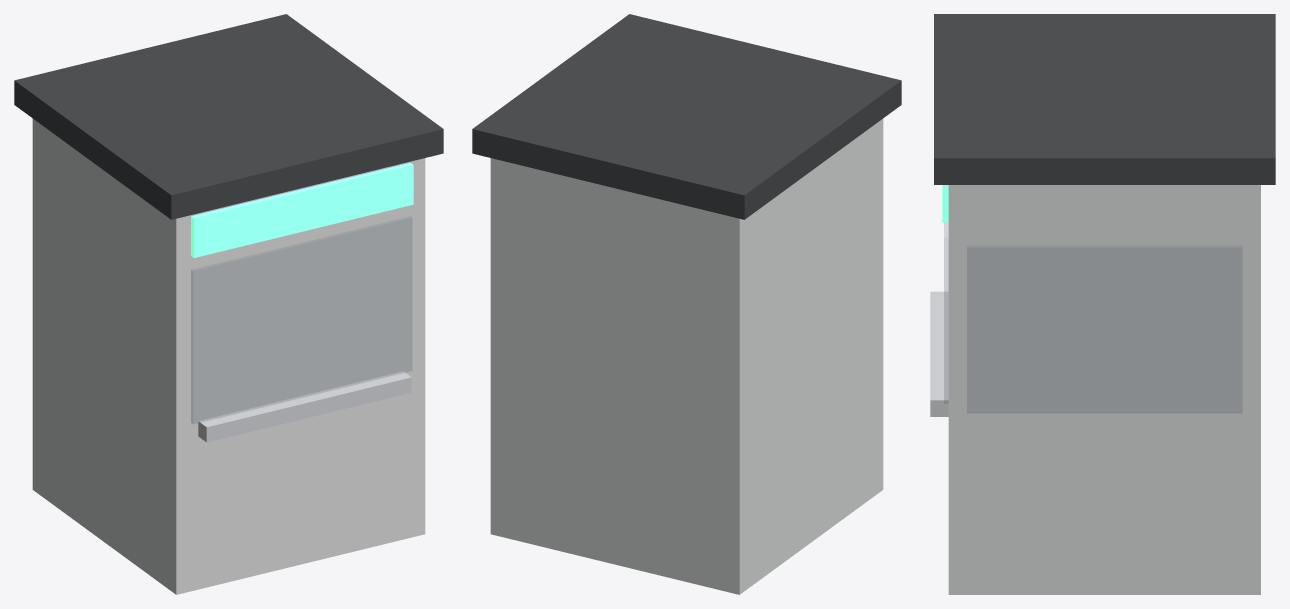
File: car-park-and-road-vehicle-fleet-payment-kiosk-c5c914df.glb
3 renders of one model, left to right at view 1: azimuth 30°, elevation 25°; view 2: azimuth 150°, elevation 25°; view 3: azimuth 270°, elevation 25°, orthographic. The views are drawn at different scales.
Parts seen in each view (by area): view 1: payment-kiosk; view 2: payment-kiosk; view 3: payment-kiosk.
Boxes of the visible parts, box(x1,y1,x2,y2) form: payment-kiosk: box(14, 14, 443, 594); payment-kiosk: box(472, 14, 901, 594); payment-kiosk: box(930, 14, 1275, 594).
Size of the model in its own units: 1.86 by 2.66 by 1.88.
